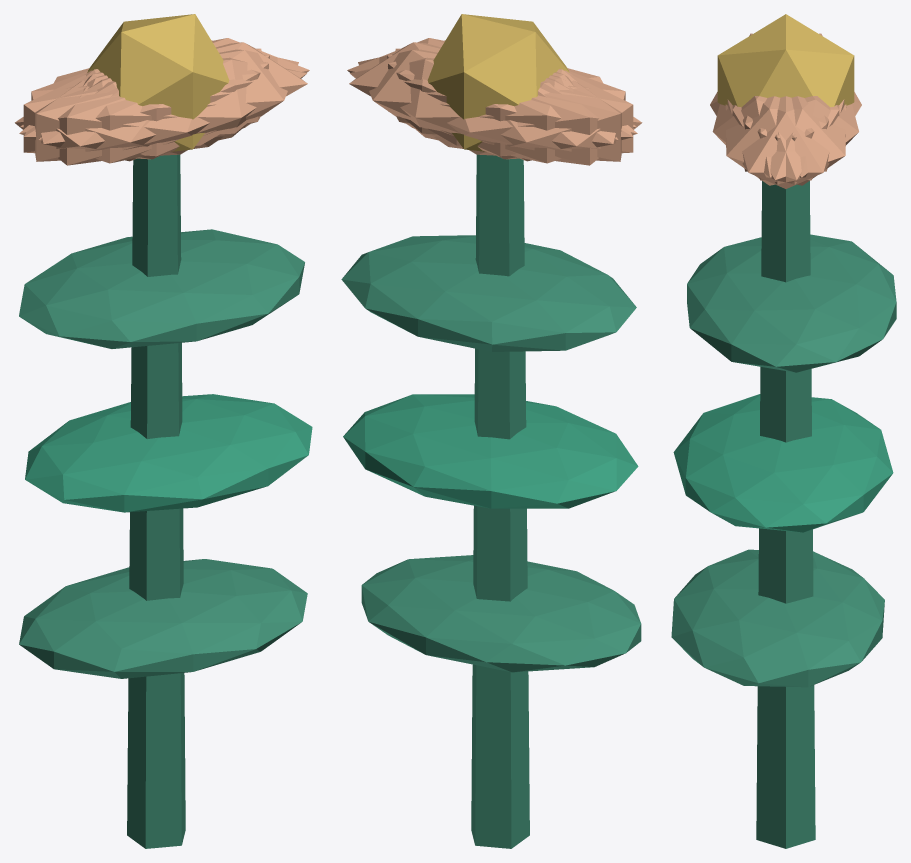
Rendered from ardisia-elliptica.glb.
The picture shows the model from 3 angles, left to right: view 1: azimuth 30°, elevation 25°; view 2: azimuth 150°, elevation 25°; view 3: azimuth 270°, elevation 25°; orthographic projection.
Visible parts, largest first — view 1: stem, leaf0, leaf1, leaf2, center, petal1, petal6, petal2, petal5, petal7, petal0, petal4 (+2 smaller); view 2: stem, leaf2, leaf1, leaf0, center, petal8, petal3, petal7, petal4, petal2, petal0, petal5 (+2 smaller); view 3: stem, leaf1, leaf2, leaf0, center, petal0, petal5, petal4, petal8, petal1.
Part boxes in pixels (x1,y1,x2,y2): stem: (127,154,185,848); leaf0: (19,559,307,678); leaf1: (25,394,312,512); leaf2: (19,229,304,348); center: (87,14,229,151); petal1: (19,57,306,163); petal6: (15,70,223,165); petal2: (35,48,261,161); petal5: (39,49,298,156); petal7: (23,54,269,159); petal0: (87,42,307,145); petal4: (20,38,309,137); stem: (471,154,529,848); leaf2: (341,235,636,351); leaf1: (343,394,638,508); leaf0: (361,555,641,672); center: (427,14,569,151); petal8: (350,57,637,163); petal3: (433,70,642,165); petal7: (395,48,621,161); petal4: (358,49,618,156); petal2: (387,54,633,159); petal0: (349,42,569,145); petal5: (347,38,636,137); stem: (756,181,815,848); leaf1: (673,394,893,532); leaf2: (687,234,896,372); leaf0: (671,549,884,687); center: (717,14,854,107); petal0: (727,96,844,188); petal5: (725,96,839,185); petal4: (732,96,846,185); petal8: (743,96,858,177); petal1: (712,96,828,177).
Bounding box in the file's own units: 0.1452 × 0.3984 × 0.1011.
